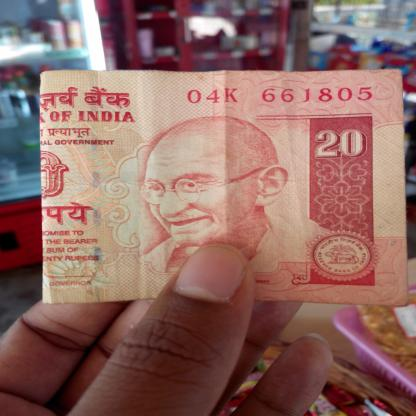Old20Front: (36, 69, 400, 298)
